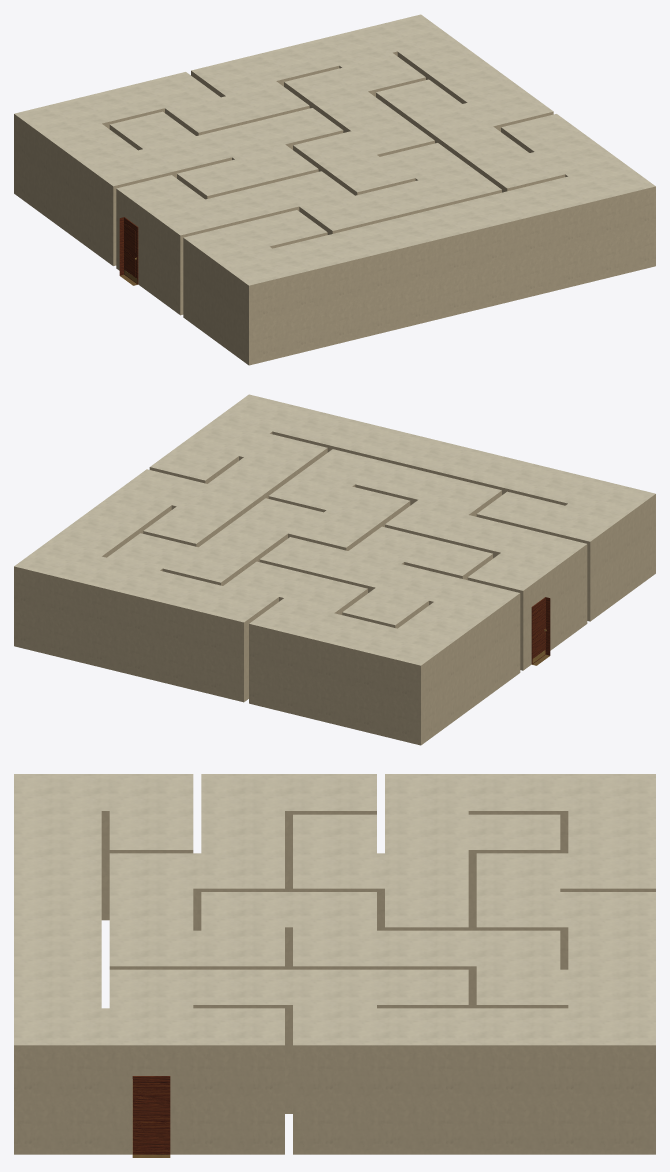
The model's file is maze_06.glb.
The picture shows the model from 3 angles, top to bottom: view 1: azimuth 30°, elevation 25°; view 2: azimuth 150°, elevation 25°; view 3: azimuth 270°, elevation 25°; orthographic projection. The views are drawn at different scales.
Parts seen in each view (by area): view 1: Skin_Ceiling_Popcorn.001, Skin_Wall_Room.001, DoorLeaf_entry; view 2: Skin_Ceiling_Popcorn.001, Skin_Wall_Room.001, DoorLeaf_entry; view 3: Skin_Ceiling_Popcorn.001, Skin_Wall_Room.001, DoorLeaf_way_on.
Part boxes in pixels (x1,y1,x2,y2): Skin_Ceiling_Popcorn.001: (14,14,655,285); Skin_Wall_Room.001: (14,51,655,365); DoorLeaf_entry: (124,217,138,284); Skin_Ceiling_Popcorn.001: (14,394,655,665); Skin_Wall_Room.001: (14,431,655,745); DoorLeaf_entry: (531,597,546,664); Skin_Ceiling_Popcorn.001: (14,774,655,1045); Skin_Wall_Room.001: (14,811,655,1154); DoorLeaf_way_on: (133,1076,170,1154).
Size of the model in its own units: 16.4 by 3 by 16.
Materials: 24 (16 with a texture image).
